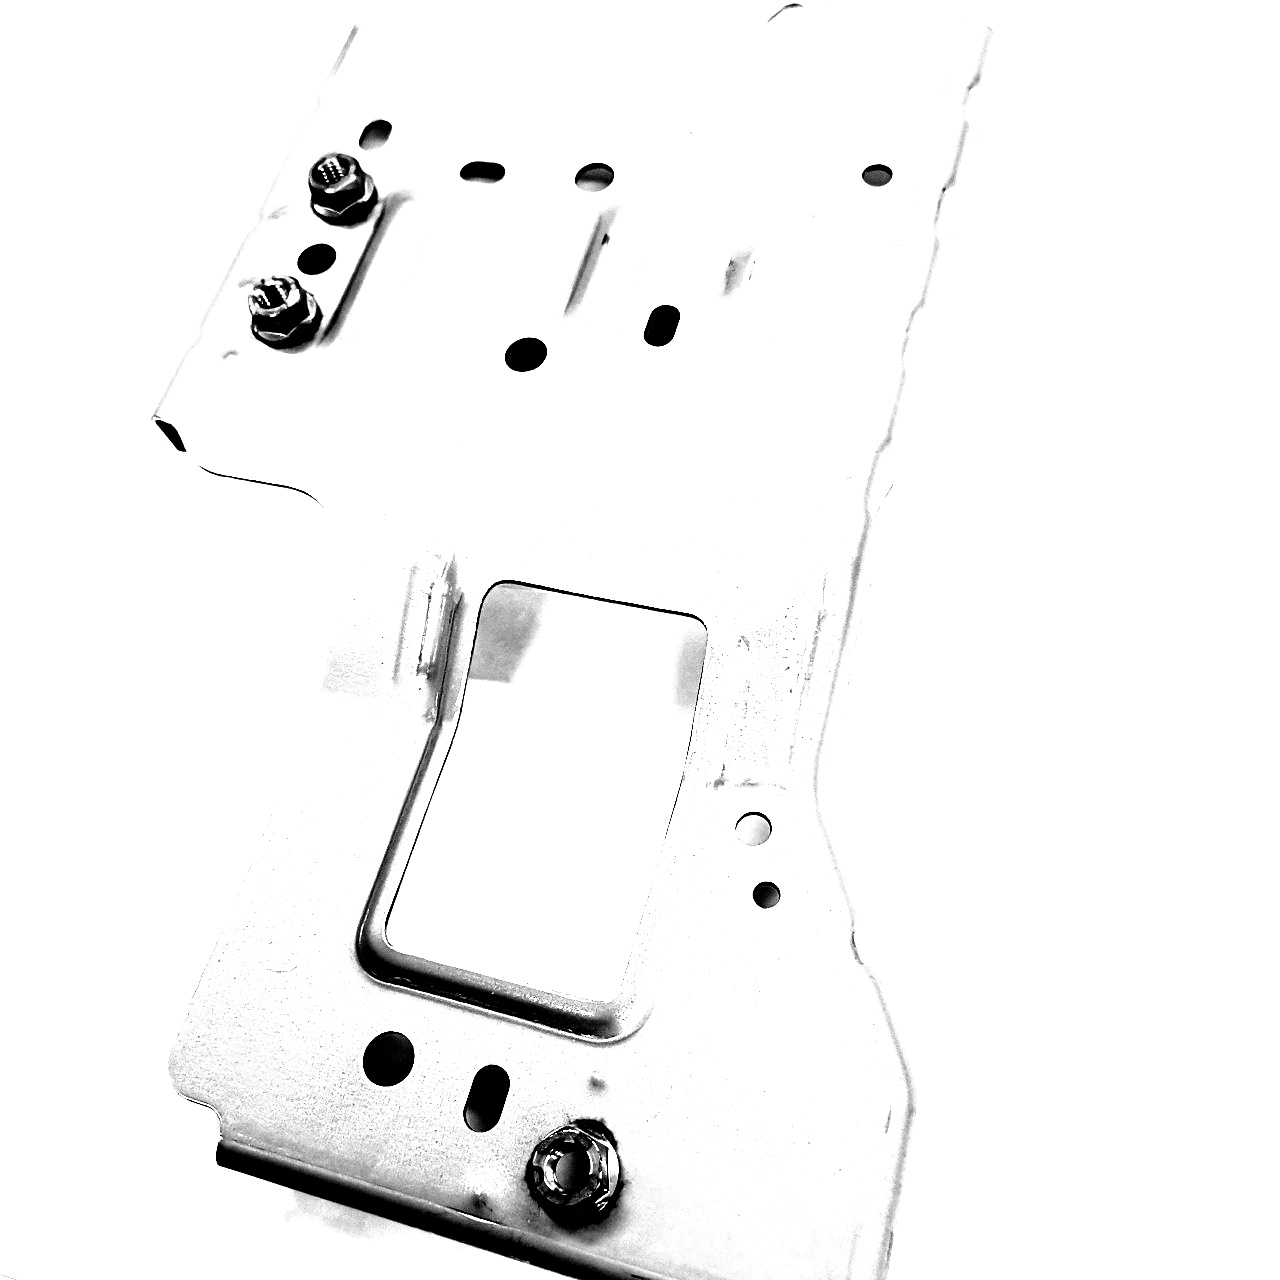dog: (522, 1116, 634, 1228), (244, 270, 328, 354), (304, 148, 382, 232)
